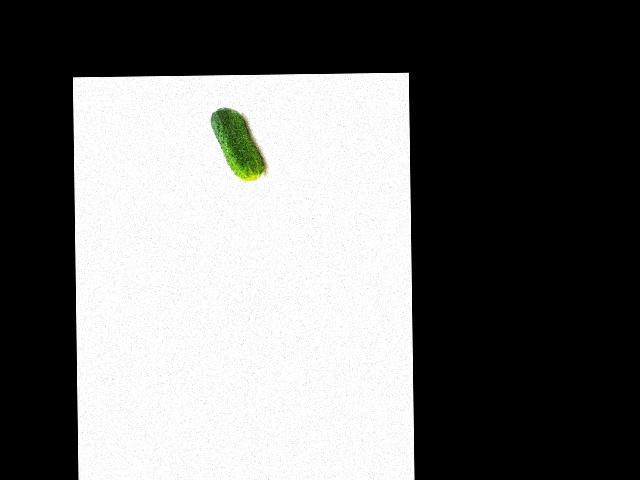cucumber: (210, 107, 263, 182)
